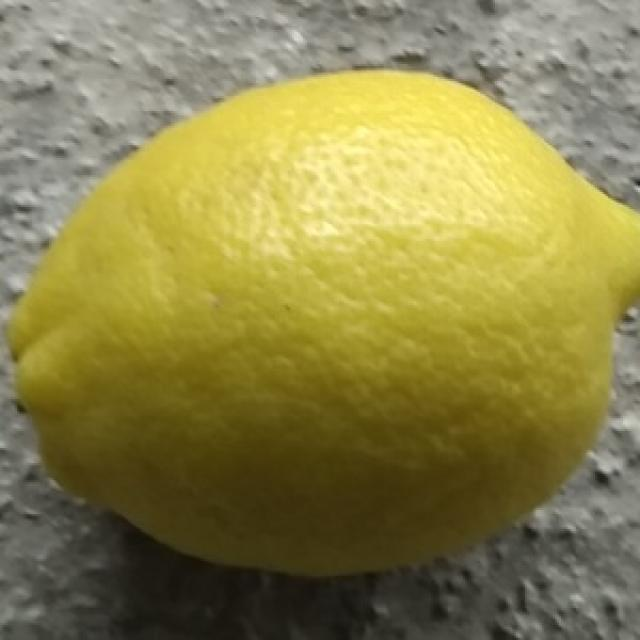Ripe: (6, 64, 640, 578)
